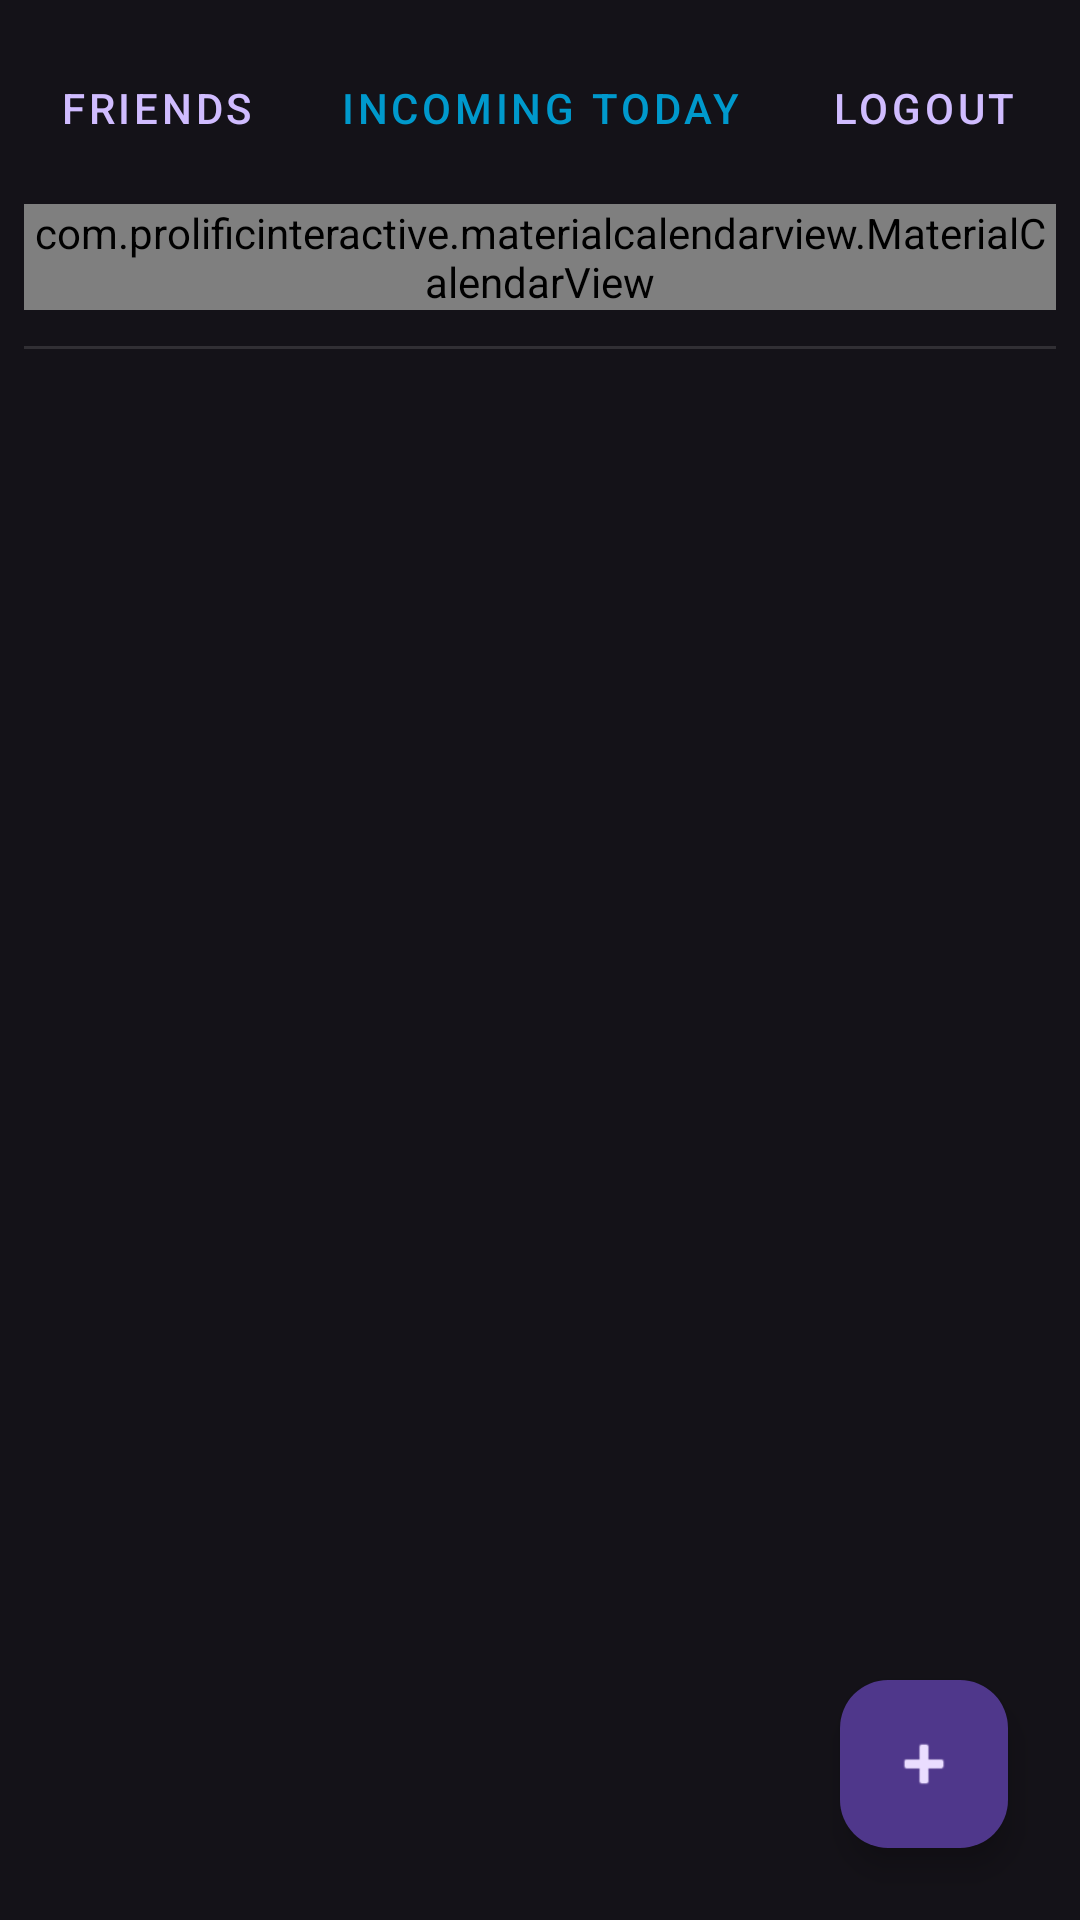

Icons on this 1080x1920 Android screen, each with the point to tap as (x=x, y=y):
Dodaj spotkanie: (x=924, y=1764)
